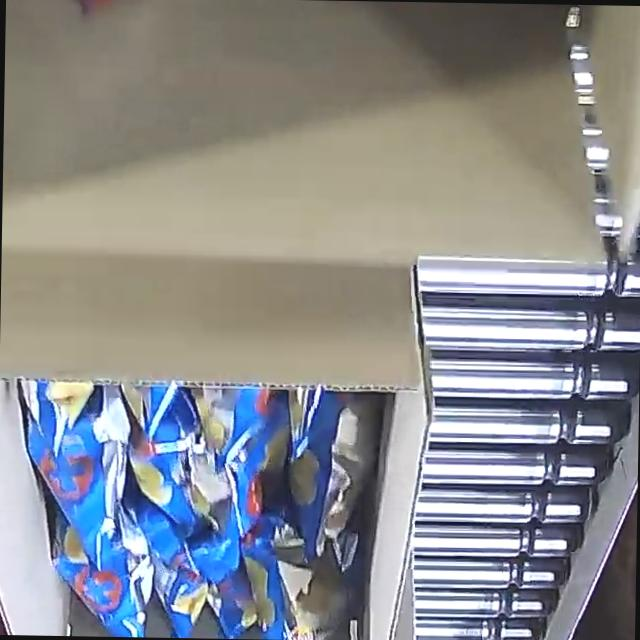paprika: (12, 379, 374, 640)
